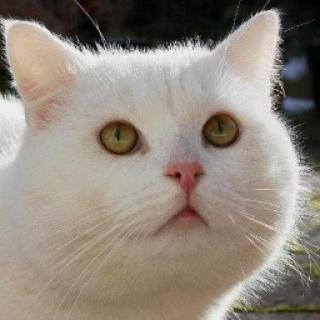cat: (7, 13, 301, 276)
nose: (156, 145, 207, 196)
